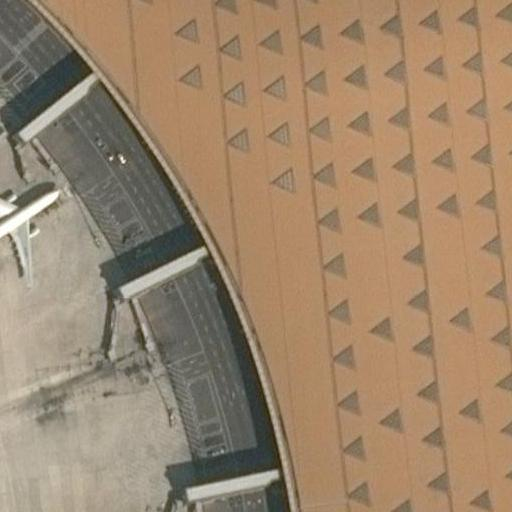Aircraft: (0, 154, 77, 289)
